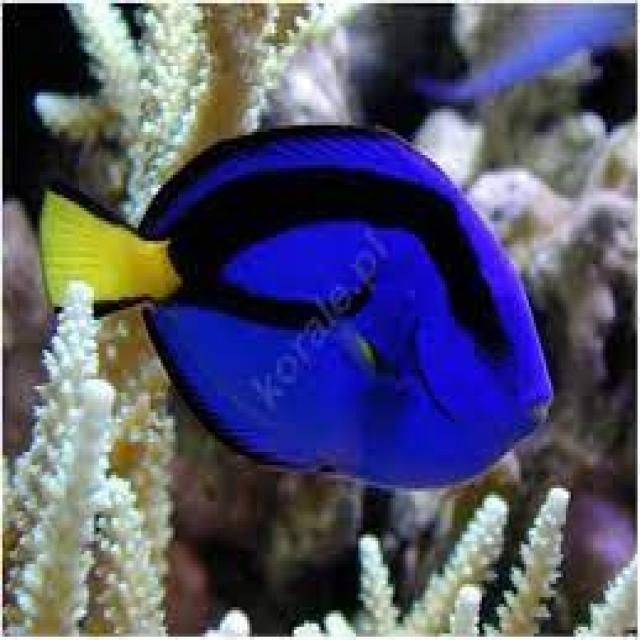TangFish: (42, 120, 555, 492)
